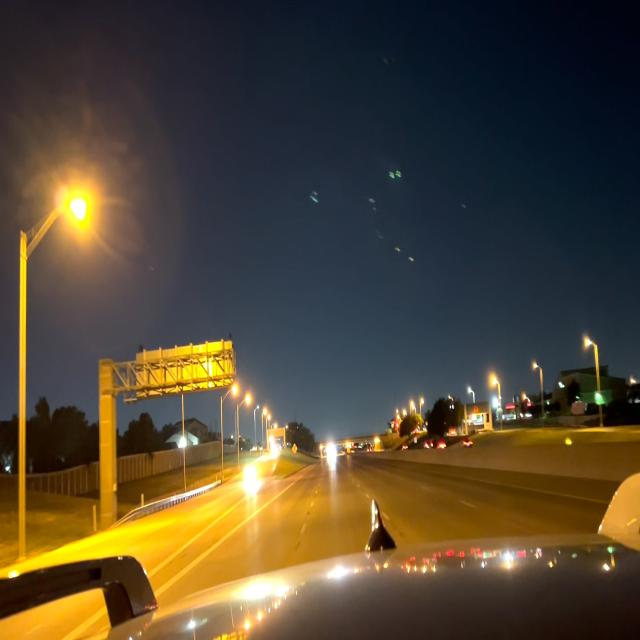back-of-sign: (135, 341, 235, 397)
